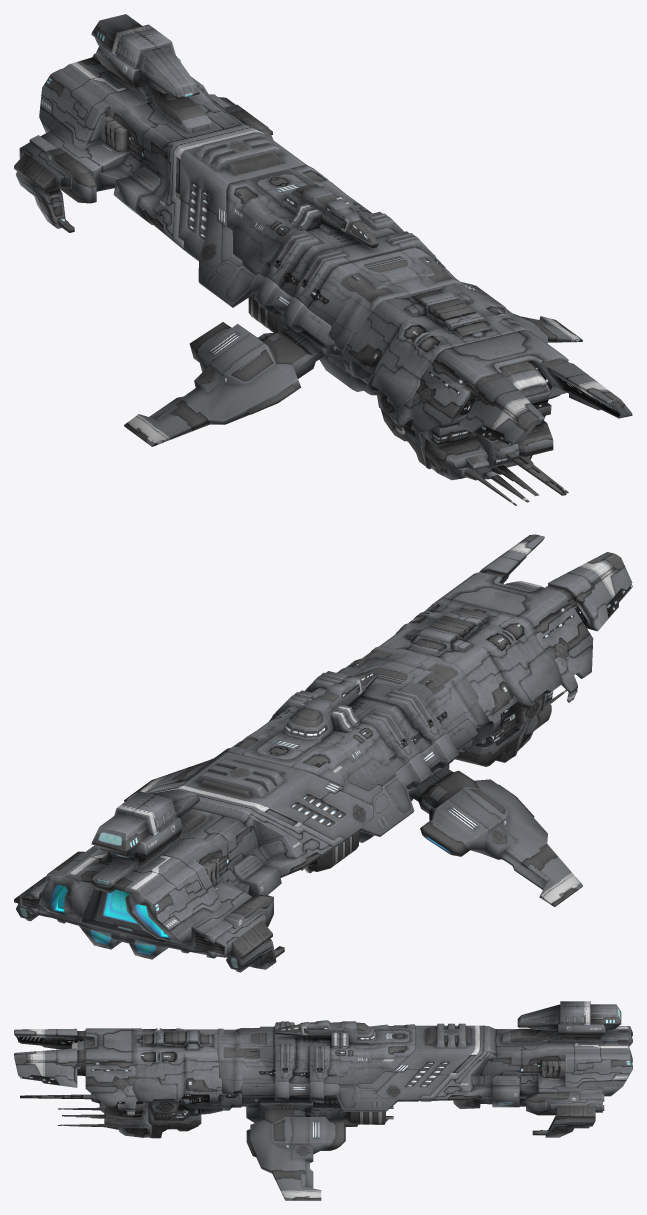
Rendered from 29984_Tengu2232_lite.glb.
3 views of the same model, one above another, from view 1: azimuth 30°, elevation 25°; view 2: azimuth 150°, elevation 25°; view 3: azimuth 270°, elevation 25° (orthographic). The views are drawn at different scales.
Visible parts, largest first — view 1: csc1_t3_s1v2, csc1_t3_s4v2, csc1_t3_s3v3, csc1_t3_s2v2; view 2: csc1_t3_s4v2, csc1_t3_s1v2, csc1_t3_s3v3, csc1_t3_s2v2; view 3: csc1_t3_s1v2, csc1_t3_s4v2, csc1_t3_s3v3, csc1_t3_s2v2.
Boxes of the visible parts, x1,y1,x2,y2 form: csc1_t3_s1v2: (342,283,632,505); csc1_t3_s4v2: (14,14,273,250); csc1_t3_s3v3: (124,130,582,446); csc1_t3_s2v2: (226,164,464,352); csc1_t3_s4v2: (14,789,344,972); csc1_t3_s1v2: (379,534,632,766); csc1_t3_s3v3: (124,719,582,906); csc1_t3_s2v2: (226,646,489,791); csc1_t3_s1v2: (14,1028,222,1138); csc1_t3_s4v2: (420,1001,632,1137); csc1_t3_s3v3: (241,1023,479,1200); csc1_t3_s2v2: (217,1020,415,1110).
Size of the model in its own units: 2.14 by 0.9223 by 4.1.
Materials: 6 (6 with a texture image).
